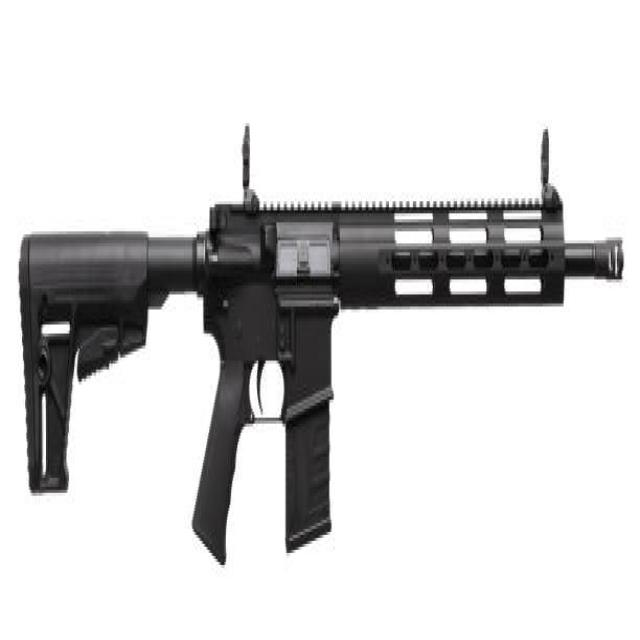rifle: (17, 103, 627, 591)
